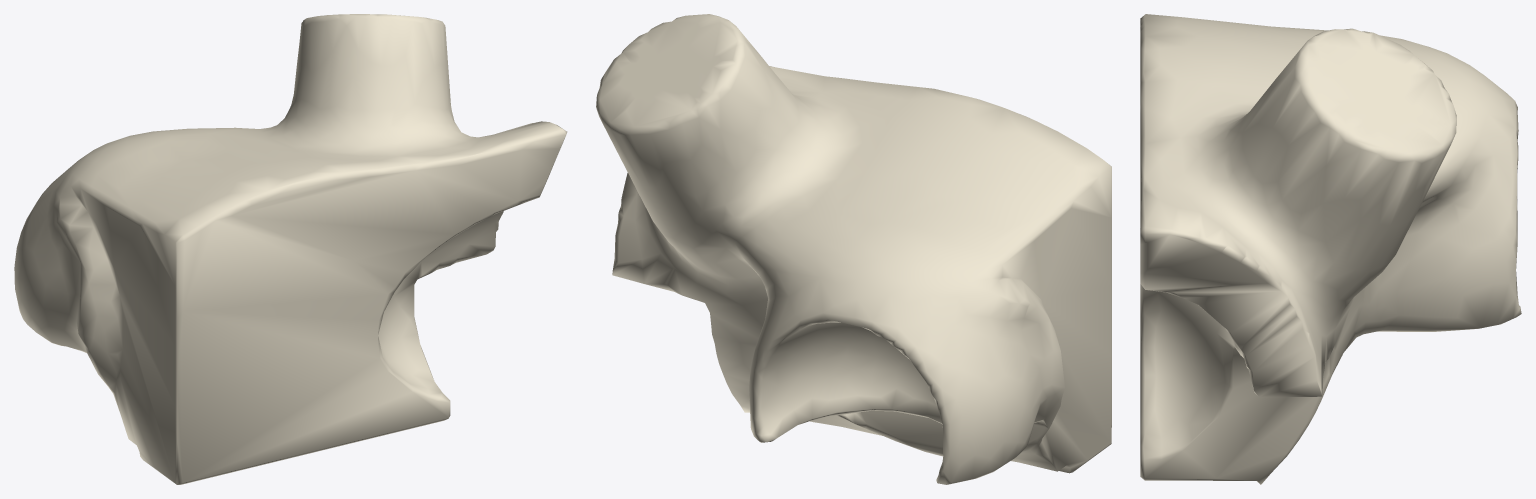
File: frontal_r.glb
3 views of the same model, side by side, from view 1: azimuth 30°, elevation 25°; view 2: azimuth 150°, elevation 25°; view 3: azimuth 270°, elevation 25° (orthographic). The views are drawn at different scales.
Visible parts, largest first — view 1: geometry_0; view 2: geometry_0; view 3: geometry_0.
Part boxes in pixels (x1=…): geometry_0: x1=14, y1=14, x2=567, y2=484; geometry_0: x1=596, y1=14, x2=1111, y2=484; geometry_0: x1=1140, y1=14, x2=1521, y2=484.
Bounding box in the file's own units: 0.3554 × 0.2872 × 0.2238.
